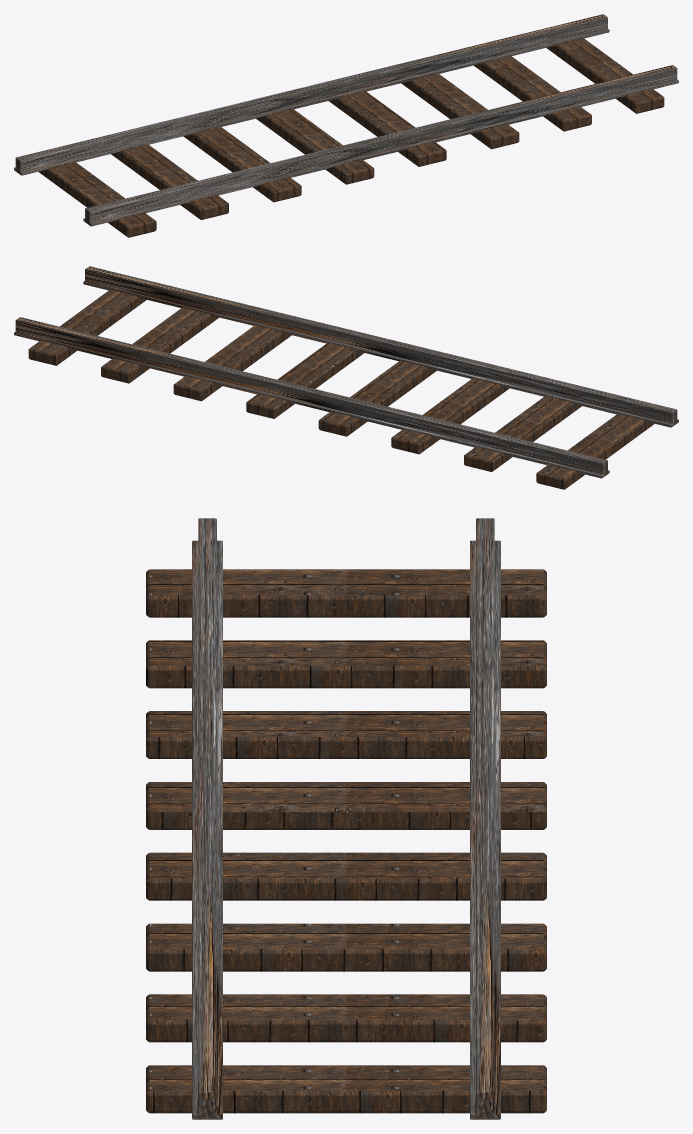
File: mine-rails-v01.glb
The picture shows the model from 3 angles, top to bottom: view 1: azimuth 30°, elevation 25°; view 2: azimuth 150°, elevation 25°; view 3: azimuth 270°, elevation 25°; orthographic projection. The views are drawn at different scales.
Visible parts, largest first — view 1: mine-rails; view 2: mine-rails; view 3: mine-rails.
Boxes of the visible parts, box(x1,y1,x2,y2) form: mine-rails: box(14, 14, 678, 237); mine-rails: box(14, 266, 678, 489); mine-rails: box(146, 518, 546, 1119).
Size of the model in its own units: 4.4 by 0.17 by 1.3.
2 materials, 2 textured.
